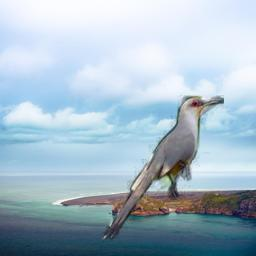Cuckoo: (102, 95, 224, 242)
